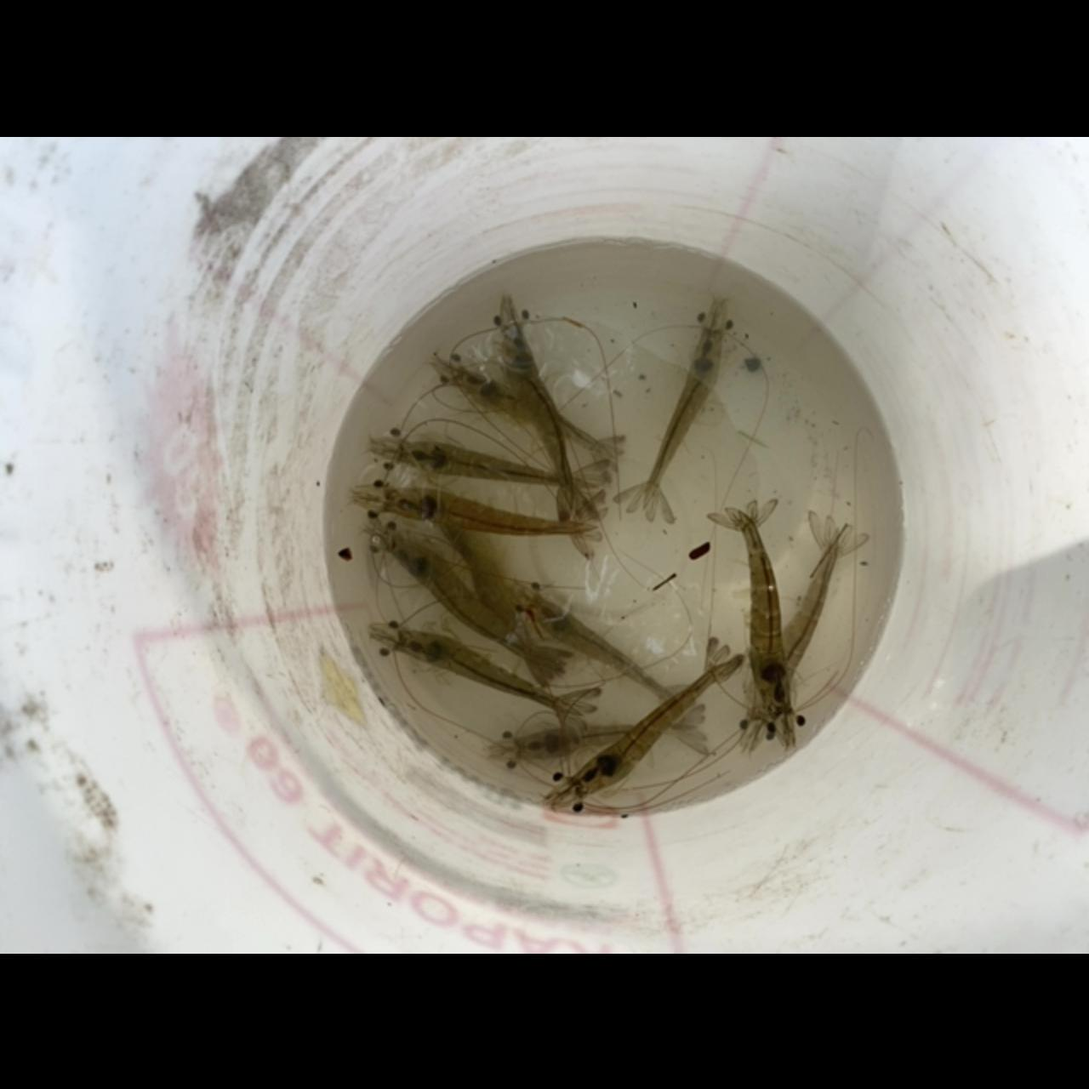round_base: (365, 289, 866, 774)
side_shrimp: (440, 504, 538, 659)
top_shrimp: (385, 535, 546, 665), (570, 662, 723, 795), (751, 527, 841, 716), (528, 596, 675, 703), (396, 627, 576, 714), (642, 328, 722, 506), (499, 323, 575, 504), (738, 508, 792, 715), (387, 486, 592, 535), (453, 365, 587, 437), (397, 440, 593, 487), (517, 721, 700, 759)
